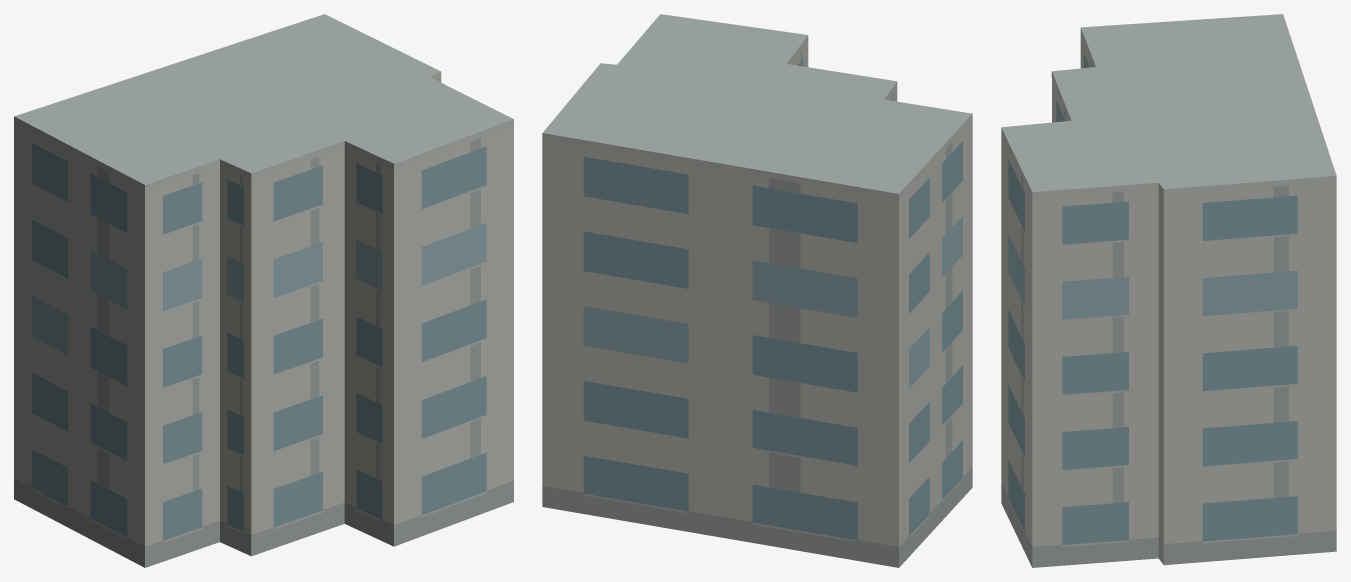
The model's file is survey-upis-32935796.glb.
3 renders of one model, left to right at view 1: azimuth 30°, elevation 25°; view 2: azimuth 150°, elevation 25°; view 3: azimuth 270°, elevation 25°, orthographic. The views are drawn at different scales.
Visible parts, largest first — view 1: survey-upis-32935796.tmp; view 2: survey-upis-32935796.tmp; view 3: survey-upis-32935796.tmp.
Boxes of the visible parts, left/top/right/bottom form: survey-upis-32935796.tmp: left=14, top=14, right=513, bottom=567; survey-upis-32935796.tmp: left=542, top=14, right=972, bottom=567; survey-upis-32935796.tmp: left=1001, top=14, right=1336, bottom=567.
Size of the model in its own units: 14.76 by 14.5 by 11.74.
